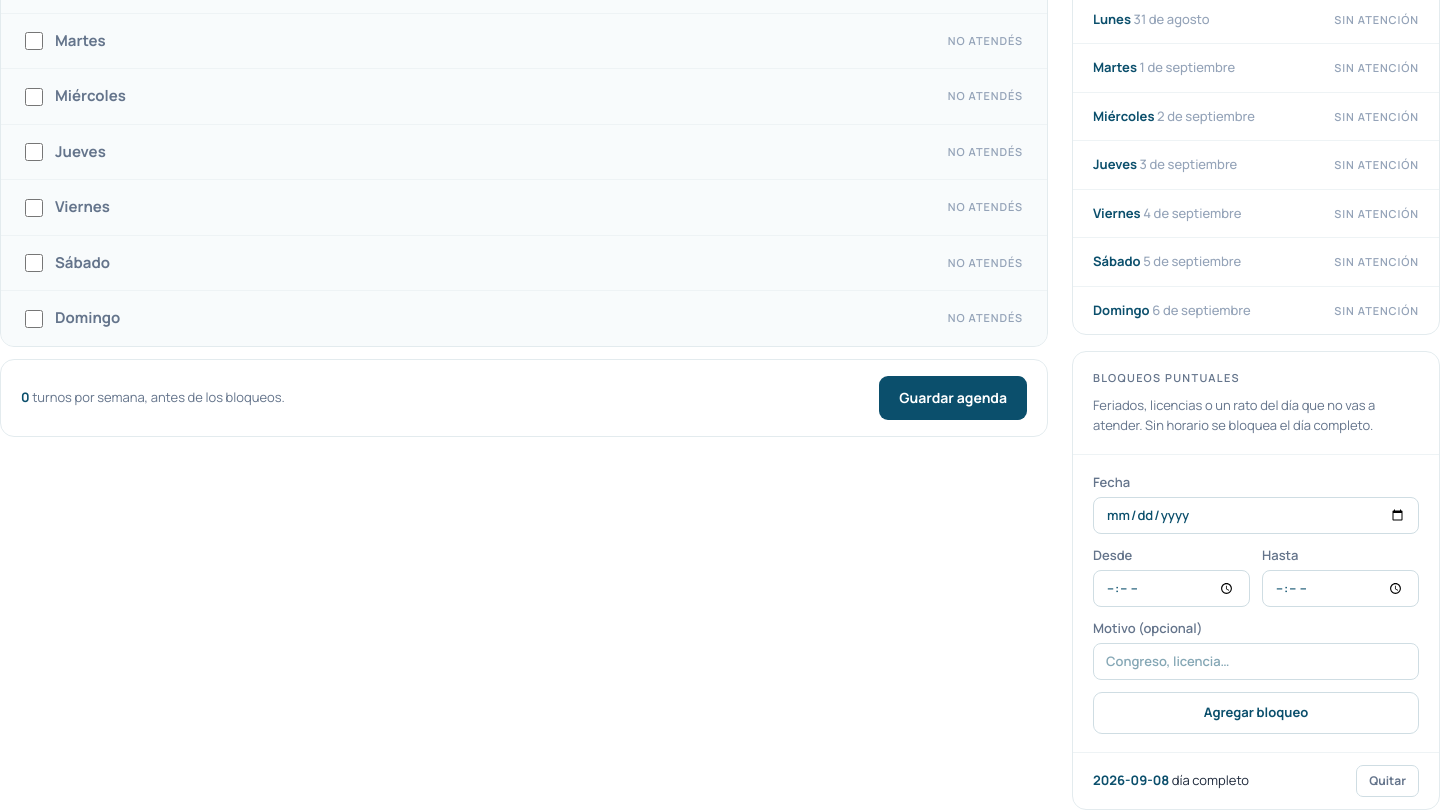
Test: WeeklyScheduleForm (ENG-53) › un borrado de bloqueo que falla muestra el error en pantalla
(page scrolled)
What coordinates should you click on to do the following:
click the button "Quitar"
I would click on:
 (1388, 781)
Its box is [1356, 765, 1419, 797].
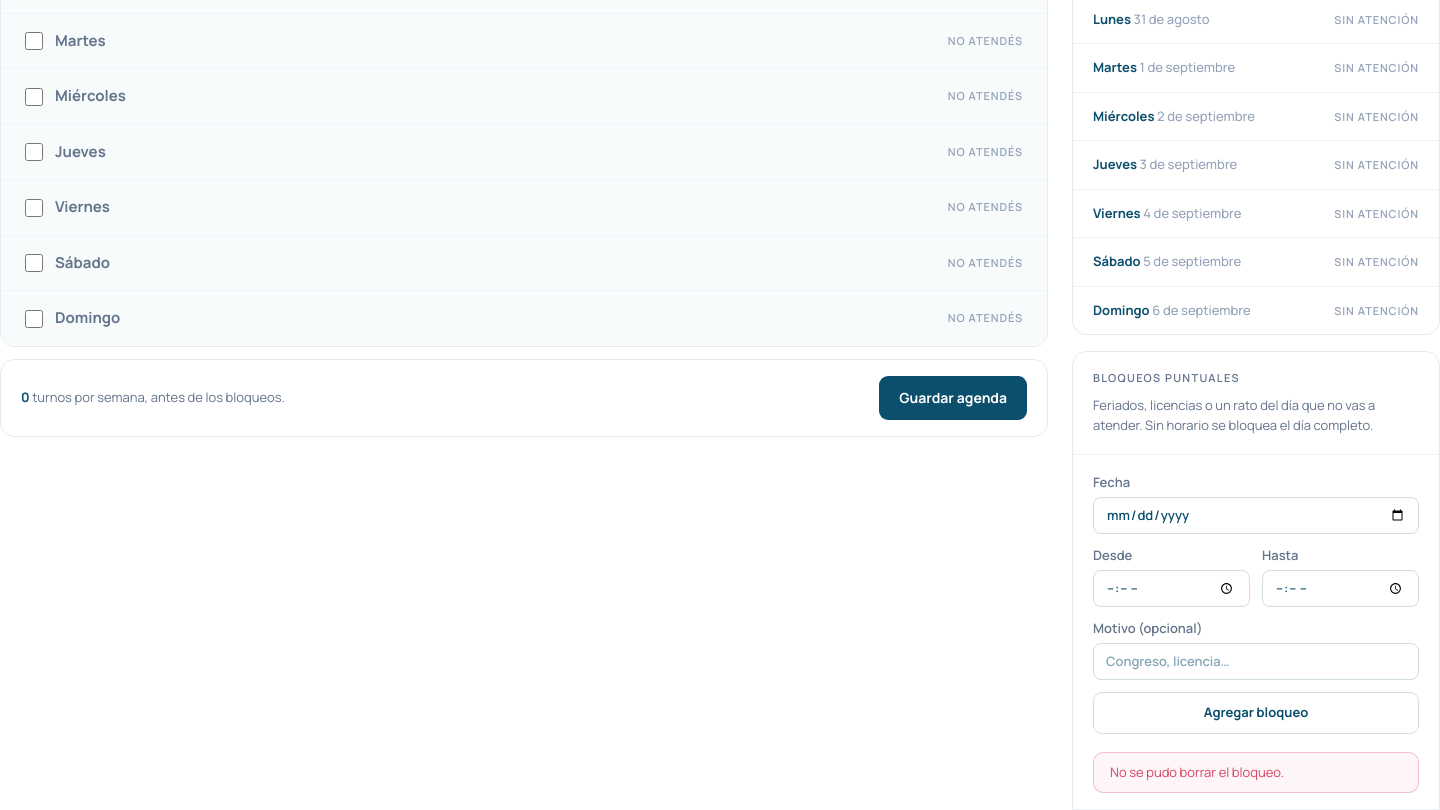
Expected: the message shows "No se pudo borrar", [1110, 763, 1284, 781]
